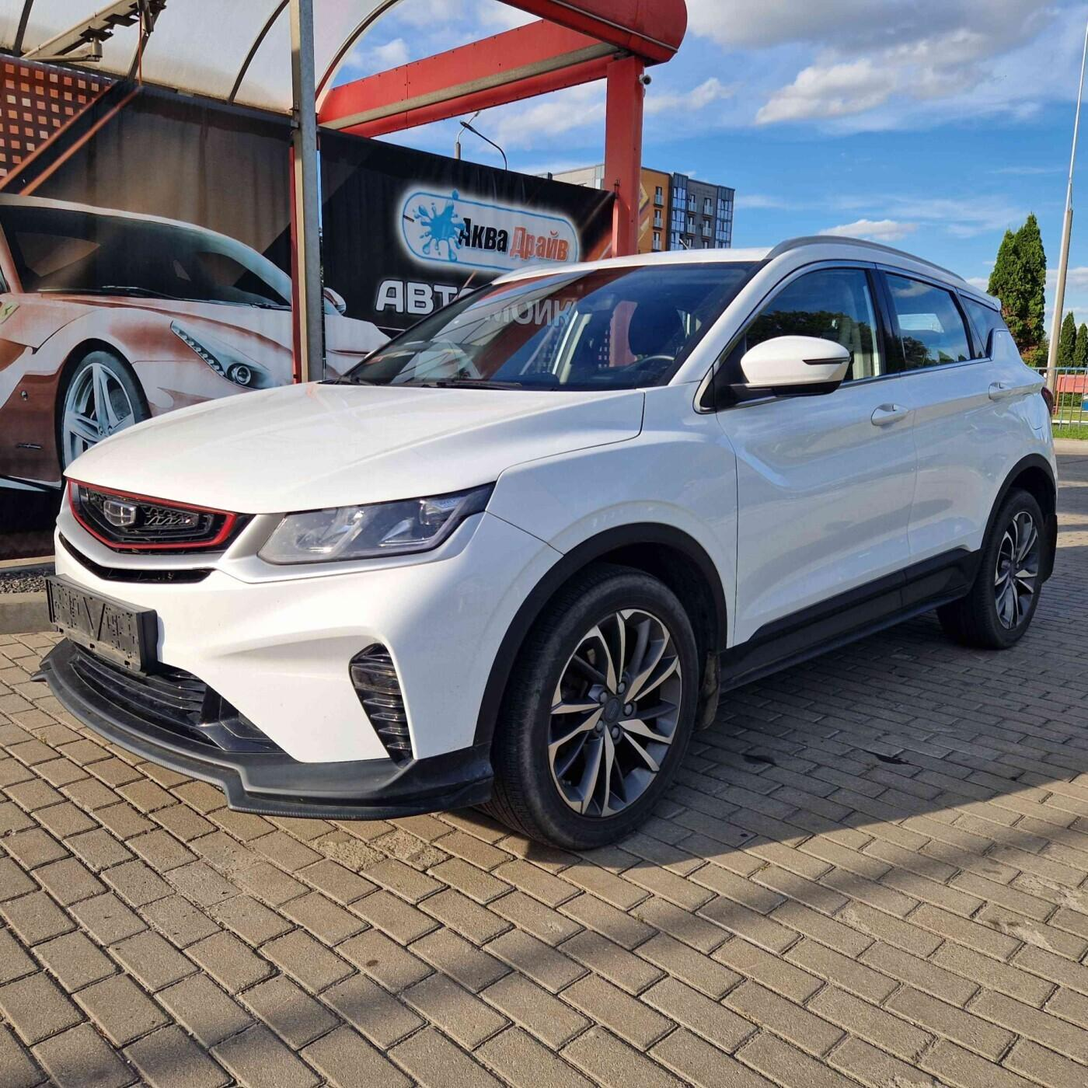Coolray_2019-2023: (47, 233, 1063, 853)
